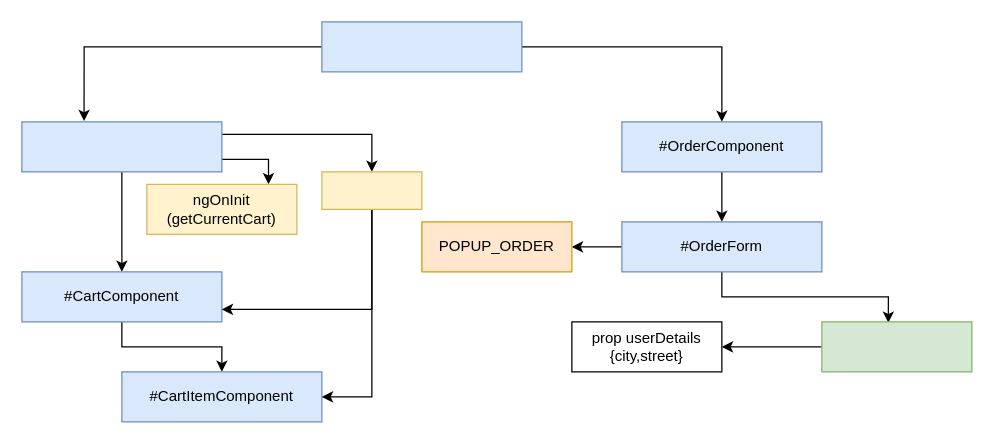
Some shapes in this 994 by 444 pixel diagram are drawn without their labels. The box of each missing label's shape, as (x1, y1, x2, y2) in pixels:
#CartPanelComponent: (21, 121, 222, 172)
#MainOrderComponent: (321, 21, 522, 72)
@Input state: (321, 171, 422, 209)
nginit getUserDetails(): (821, 321, 972, 372)
